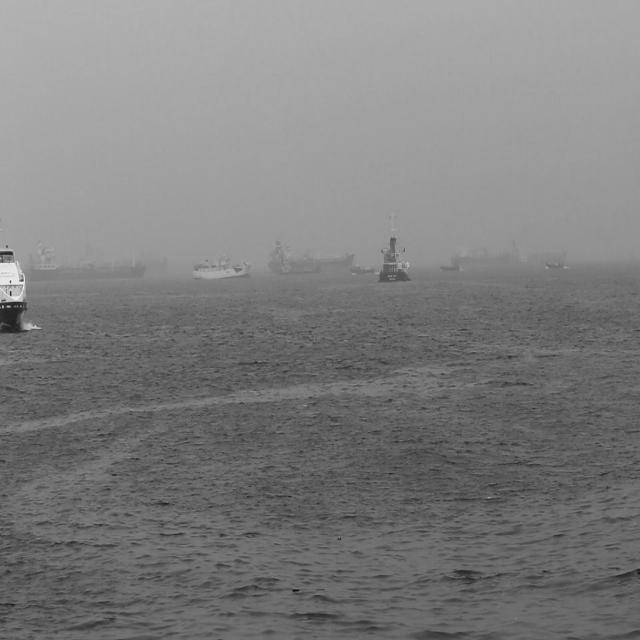ship: (27, 240, 148, 280), (265, 234, 356, 270), (0, 242, 28, 331), (378, 216, 408, 284), (446, 239, 520, 262), (192, 254, 252, 278), (526, 246, 570, 261), (352, 262, 376, 276), (544, 259, 566, 270), (439, 263, 461, 272)
